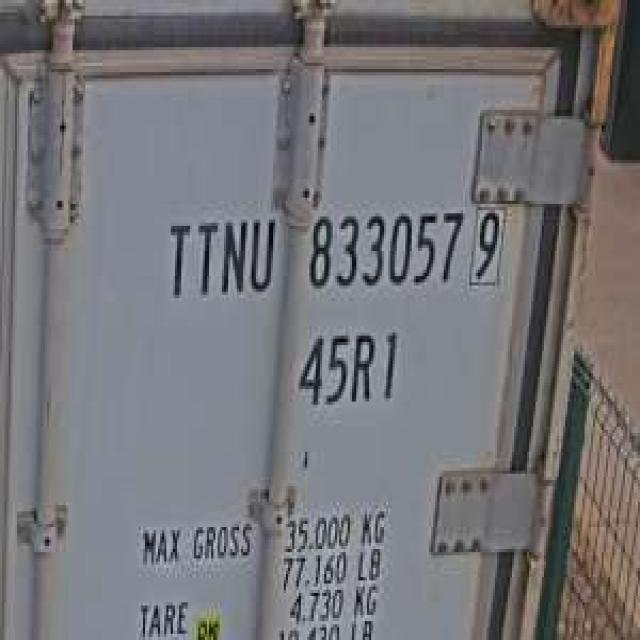dv: (467, 201, 508, 292)
owner: (160, 201, 279, 307)
serial: (301, 198, 465, 298)
size: (292, 317, 403, 414)
